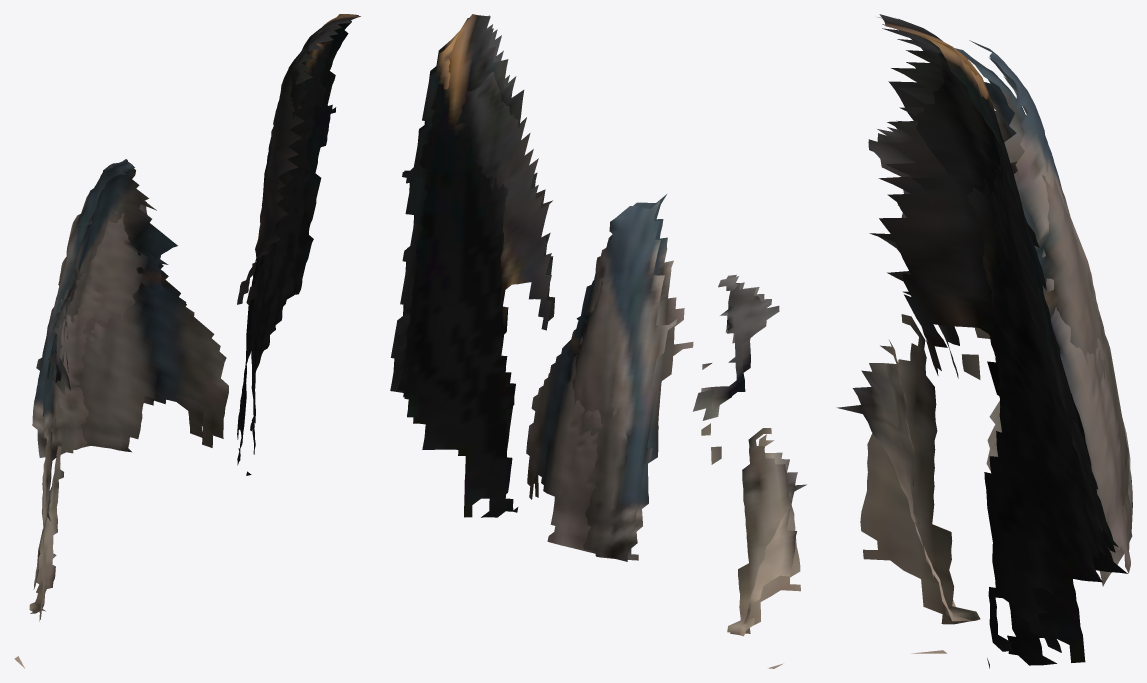
3 renders of one model, left to right at view 1: azimuth 30°, elevation 25°; view 2: azimuth 150°, elevation 25°; view 3: azimuth 270°, elevation 25°, orthographic. The views are drawn at different scales.
Parts seen in each view (by area): view 1: source_studio_clothes_observed_blue_gray_garments, source_studio_clothes_observed_black_garments; view 2: source_studio_clothes_observed_black_garments, source_studio_clothes_observed_blue_gray_garments; view 3: source_studio_clothes_observed_black_garments, source_studio_clothes_observed_blue_gray_garments.
Boxes of the visible parts, x1,y1,x2,y2 form: source_studio_clothes_observed_blue_gray_garments: (14, 159, 228, 668); source_studio_clothes_observed_black_garments: (237, 14, 360, 475); source_studio_clothes_observed_black_garments: (390, 14, 554, 517); source_studio_clothes_observed_blue_gray_garments: (526, 194, 806, 668); source_studio_clothes_observed_black_garments: (869, 14, 1127, 668); source_studio_clothes_observed_blue_gray_garments: (836, 40, 1132, 653).
Size of the model in its own units: 0.6774 by 1.07 by 0.3308.
